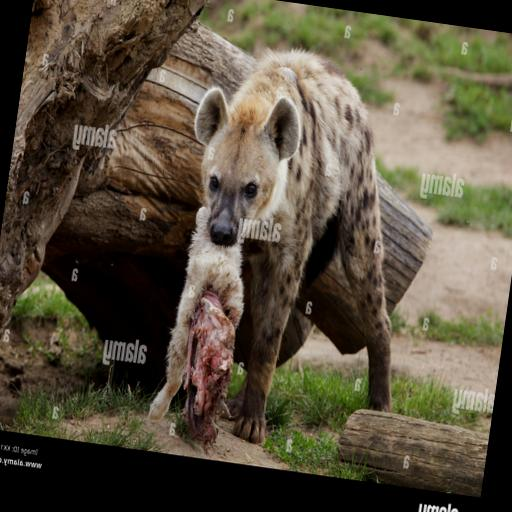hyenas: (105, 24, 438, 476)
